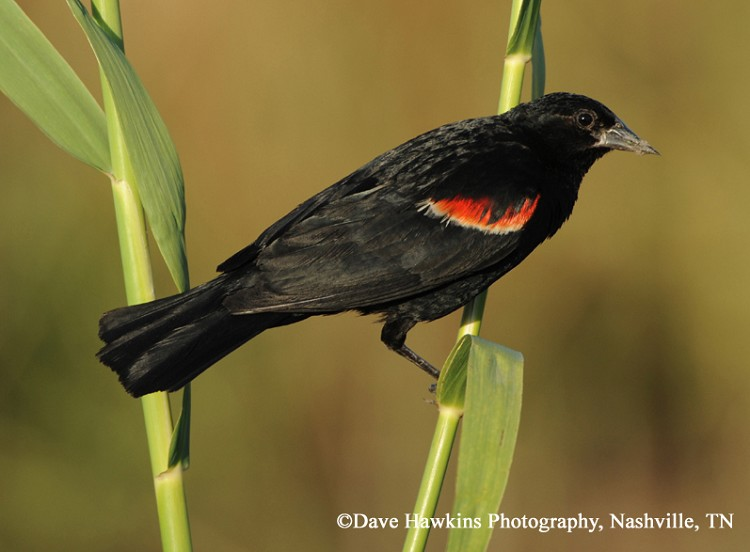bird: (149, 97, 644, 355)
